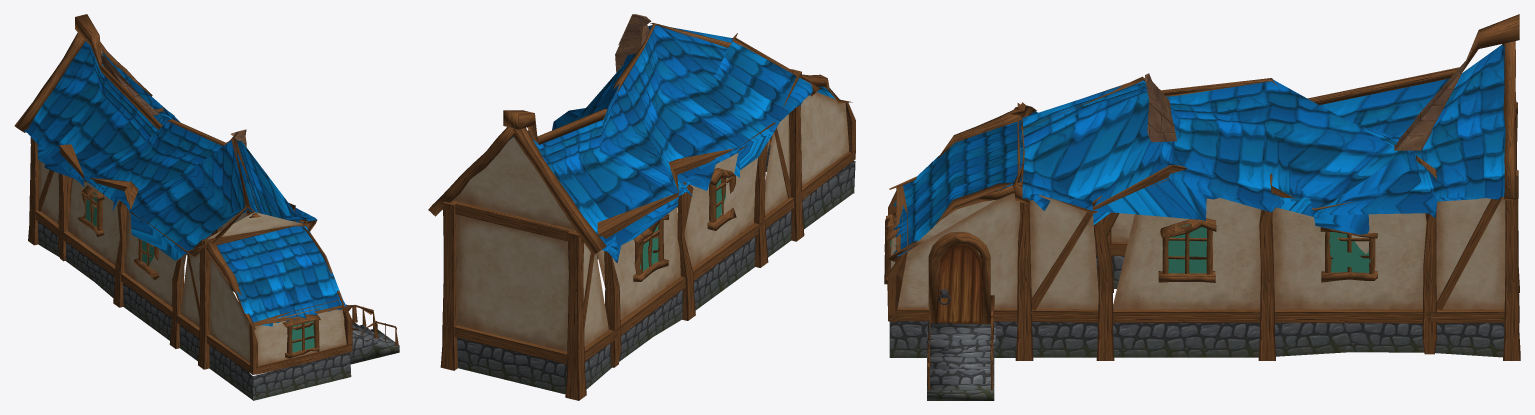
The model's file is house6_morph.fbx.
The picture shows the model from 3 angles, left to right: view 1: azimuth 30°, elevation 25°; view 2: azimuth 150°, elevation 25°; view 3: azimuth 270°, elevation 25°; orthographic projection. The views are drawn at different scales.
Parts seen in each view (by area): view 1: house6before; view 2: house6before; view 3: house6before.
Part boxes in pixels (bbox=[...]): house6before: bbox=[14, 14, 399, 400]; house6before: bbox=[428, 14, 855, 400]; house6before: bbox=[884, 14, 1520, 400].
Size of the model in its own units: 135 by 153 by 289.
3 materials, 2 textured.
